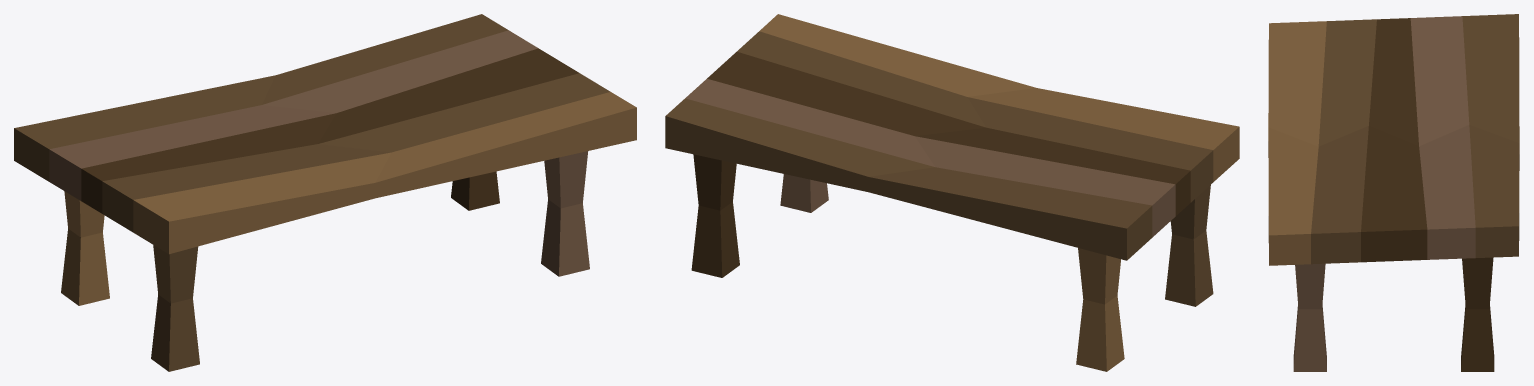
Rendered from Table_5_Brown.fbx.
3 renders of one model, left to right at view 1: azimuth 30°, elevation 25°; view 2: azimuth 150°, elevation 25°; view 3: azimuth 270°, elevation 25°, orthographic. The views are drawn at different scales.
Visible parts, largest first — view 1: Table_5_Brown_Part_1, Table_5_Brown_Part_2, Table_5_Brown_Part_3, Table_5_Brown_Part_4; view 2: Table_5_Brown_Part_1, Table_5_Brown_Part_2, Table_5_Brown_Part_4, Table_5_Brown_Part_3; view 3: Table_5_Brown_Part_1, Table_5_Brown_Part_4, Table_5_Brown_Part_3, Table_5_Brown_Part_2.
Boxes of the visible parts, x1,y1,x2,y2 form: Table_5_Brown_Part_1: [14, 14, 610, 371]; Table_5_Brown_Part_2: [61, 92, 636, 305]; Table_5_Brown_Part_3: [49, 30, 589, 276]; Table_5_Brown_Part_4: [81, 48, 579, 213]; Table_5_Brown_Part_1: [665, 31, 1213, 306]; Table_5_Brown_Part_2: [759, 14, 1239, 371]; Table_5_Brown_Part_4: [691, 51, 1190, 277]; Table_5_Brown_Part_3: [685, 79, 1175, 237]; Table_5_Brown_Part_1: [1311, 14, 1519, 264]; Table_5_Brown_Part_4: [1361, 18, 1494, 371]; Table_5_Brown_Part_3: [1293, 16, 1475, 371]; Table_5_Brown_Part_2: [1268, 21, 1326, 265].
Size of the model in its own units: 313 by 100 by 150.
